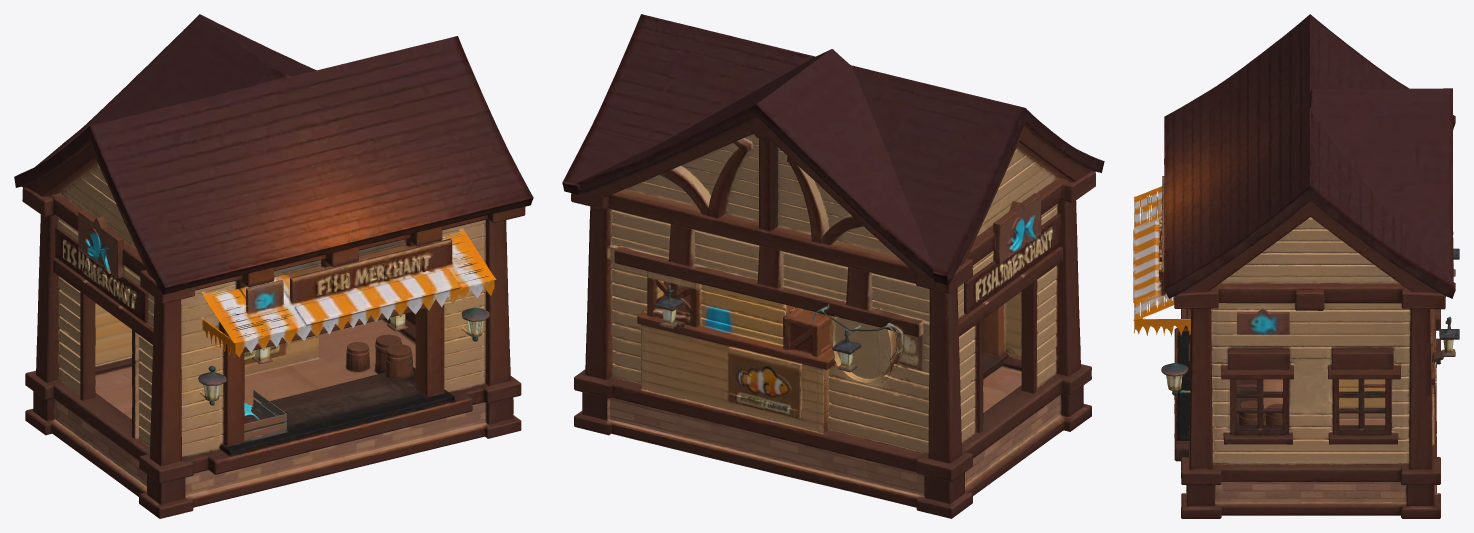
The model's file is FISHSHOP-f0530092.glb.
The picture shows the model from 3 angles, left to right: view 1: azimuth 30°, elevation 25°; view 2: azimuth 150°, elevation 25°; view 3: azimuth 270°, elevation 25°; orthographic projection. The views are drawn at different scales.
Parts seen in each view (by area): view 1: tripo_node_c36fecc5-8c8b-4a95-b806-d7bbdb566099; view 2: tripo_node_c36fecc5-8c8b-4a95-b806-d7bbdb566099; view 3: tripo_node_c36fecc5-8c8b-4a95-b806-d7bbdb566099.
Part boxes in pixels (box(x1,y1,x2,y2)): tripo_node_c36fecc5-8c8b-4a95-b806-d7bbdb566099: box(14, 14, 533, 518); tripo_node_c36fecc5-8c8b-4a95-b806-d7bbdb566099: box(562, 14, 1104, 518); tripo_node_c36fecc5-8c8b-4a95-b806-d7bbdb566099: box(1133, 14, 1459, 518).
Size of the model in its own units: 0.9518 by 0.8859 by 0.7567.
Materials: 1 (1 with a texture image).
